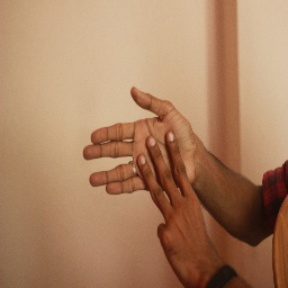M: (77, 82, 207, 248)
